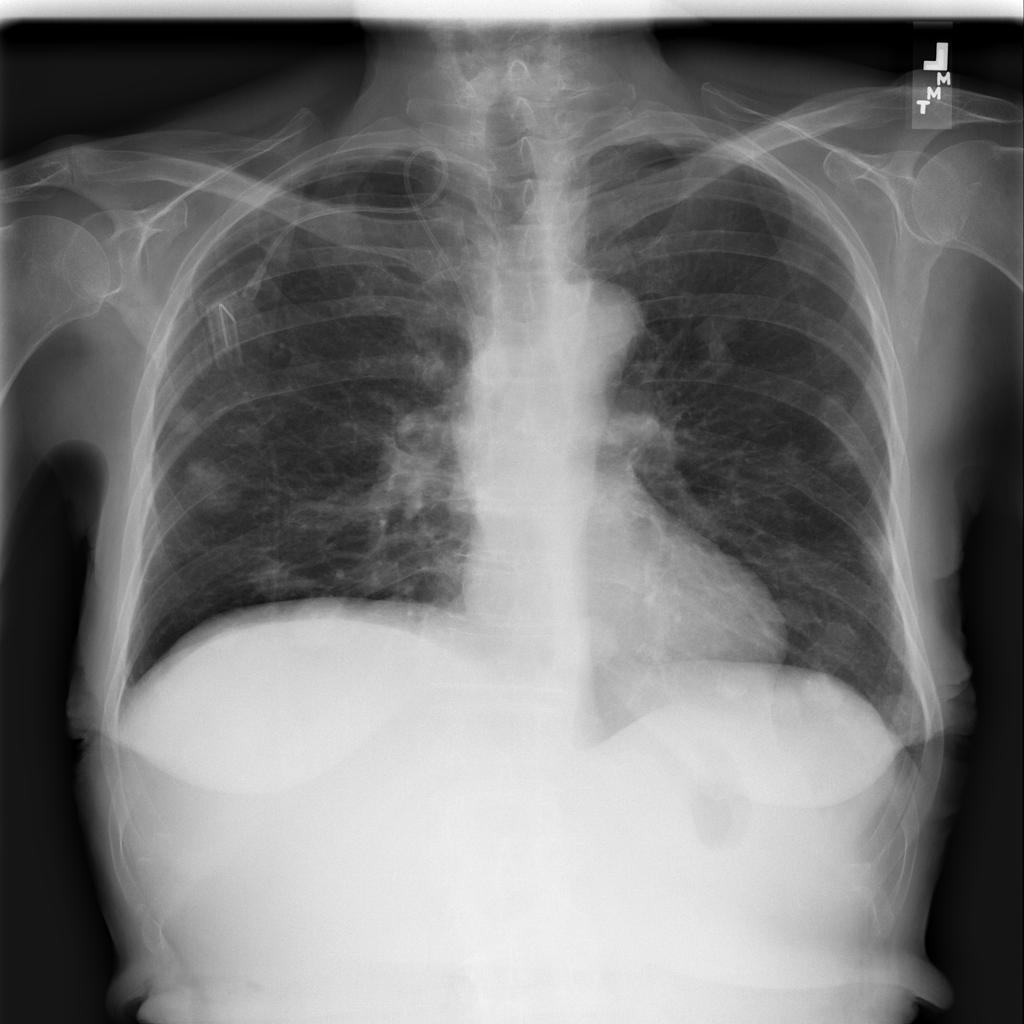nodule: (174, 446, 255, 525), (675, 302, 755, 375), (232, 546, 319, 610), (560, 603, 630, 679), (861, 675, 934, 747), (796, 613, 874, 676), (842, 519, 909, 586), (222, 410, 282, 458), (817, 435, 873, 483), (807, 382, 865, 427), (157, 393, 209, 442)
